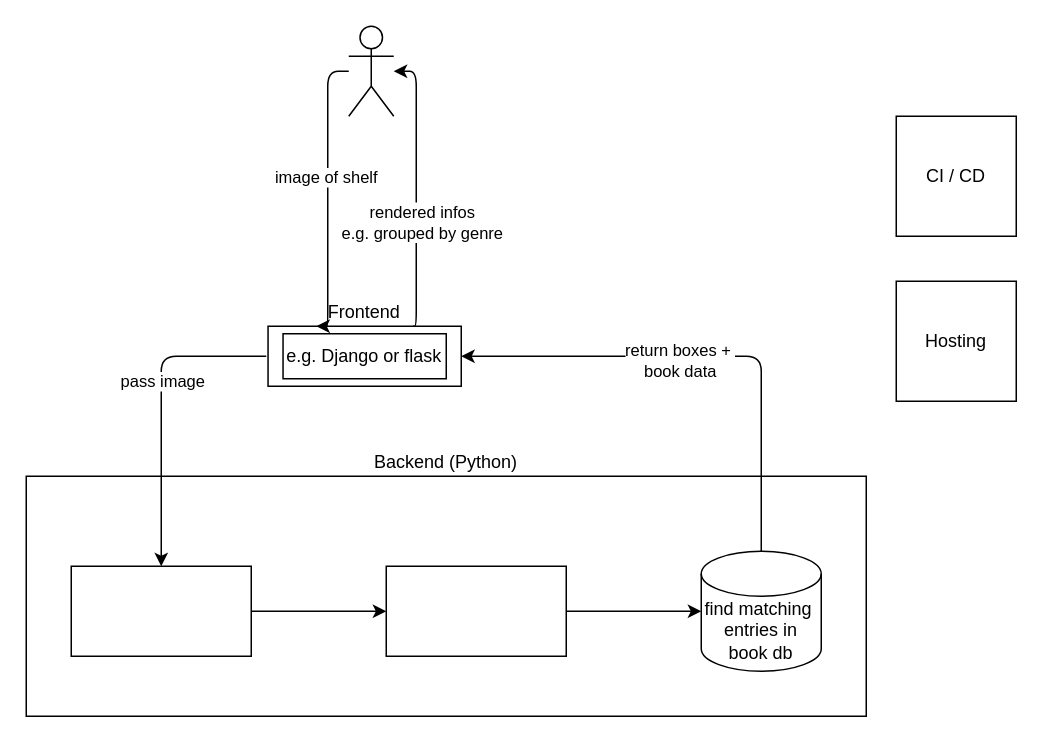
Some shapes in this 1043 by 743 pixel diagram are drawn without their labels. The centre of each missing label's shape, as x and y in pixels:
Actor: the point at 370,70
extract spine text: the point at 475,610
identify book spines: the point at 160,610
